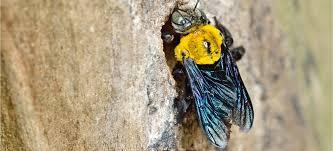Xylocopa: (156, 1, 264, 147)
